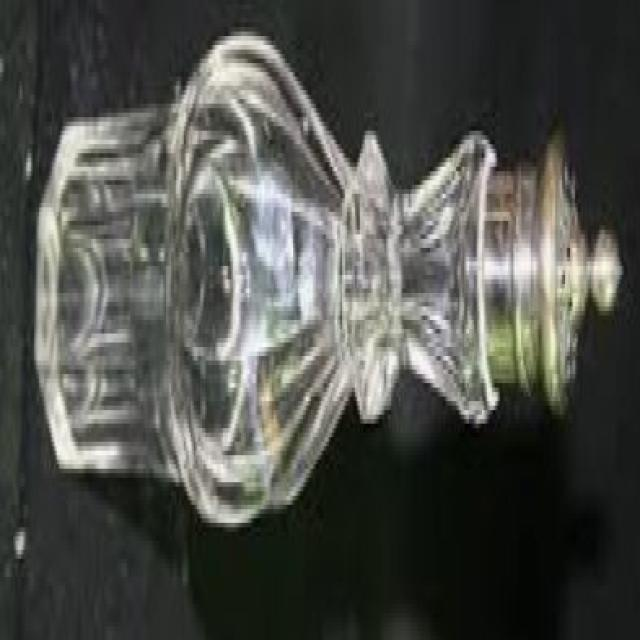electronic: (35, 29, 625, 532)
